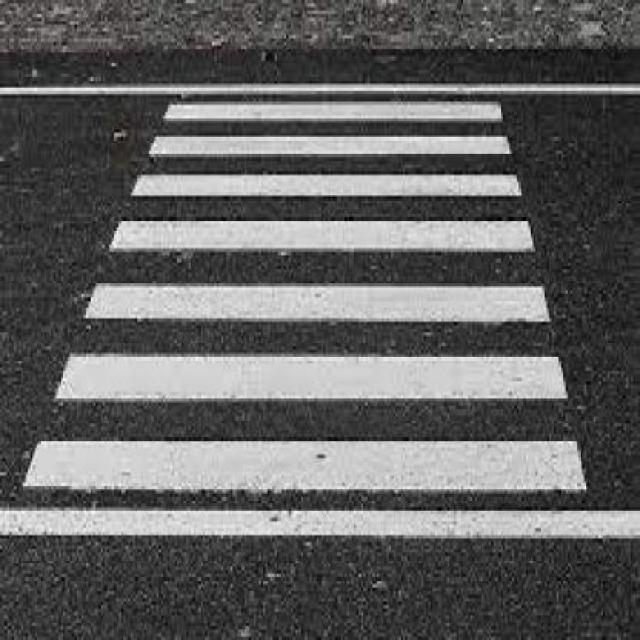crosswalk: (21, 99, 588, 492)
